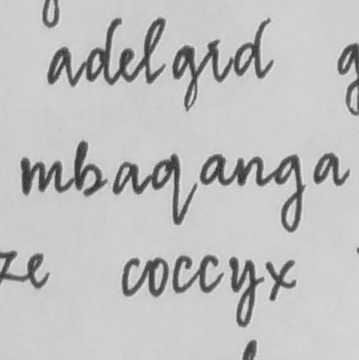a: (197, 151, 229, 188), (312, 151, 343, 188), (111, 160, 142, 196)
b: (72, 138, 106, 198)
g: (272, 151, 308, 234)
m: (18, 153, 65, 198)
n: (234, 153, 267, 189)
q: (149, 151, 186, 227)
